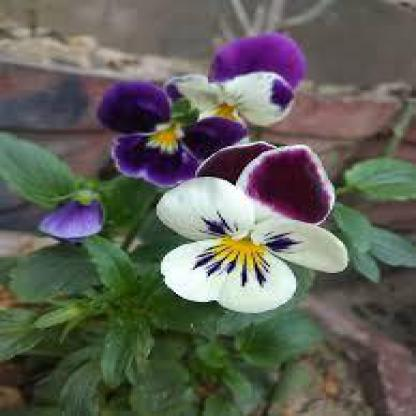Kenanga: (98, 61, 299, 352)
